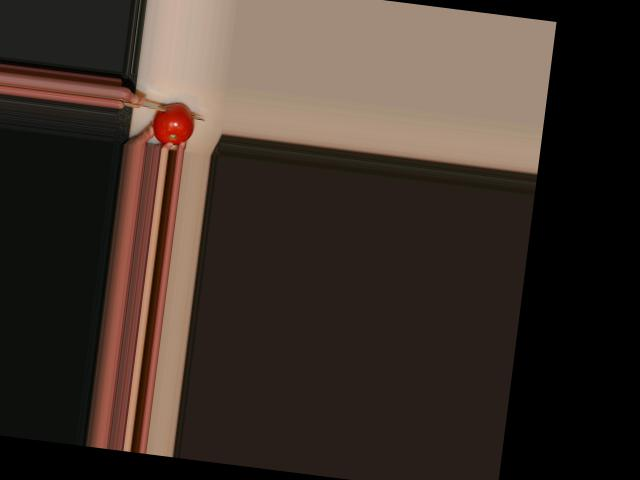tomato: (151, 100, 197, 147)
